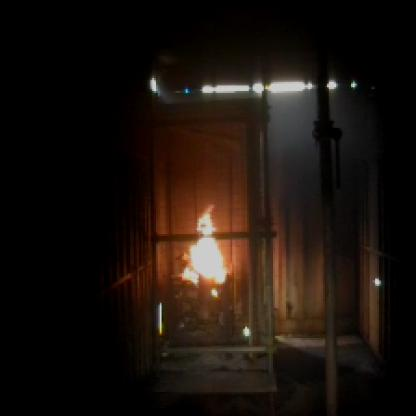Fire: (184, 202, 232, 299)
